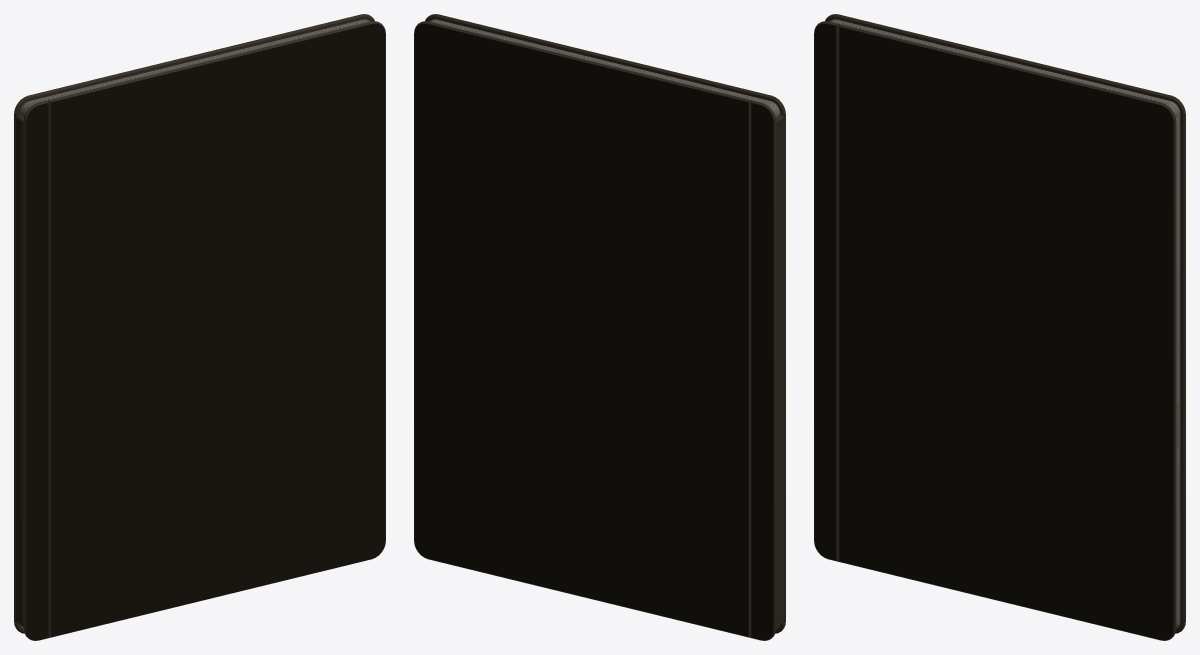
The model's file is passport.glb.
The picture shows the model from 3 angles, left to right: view 1: azimuth 30°, elevation 25°; view 2: azimuth 150°, elevation 25°; view 3: azimuth 330°, elevation 25°; orthographic projection.
Parts seen in each view (by area): view 1: Passport; view 2: Passport; view 3: Passport.
Part boxes in pixels (<box>): Passport: <box>14,14,385,640</box>; Passport: <box>414,14,785,640</box>; Passport: <box>814,14,1185,640</box>.
Bounding box in the file's own units: 0.088 × 0.125 × 0.005.
3 materials, 1 textured.
